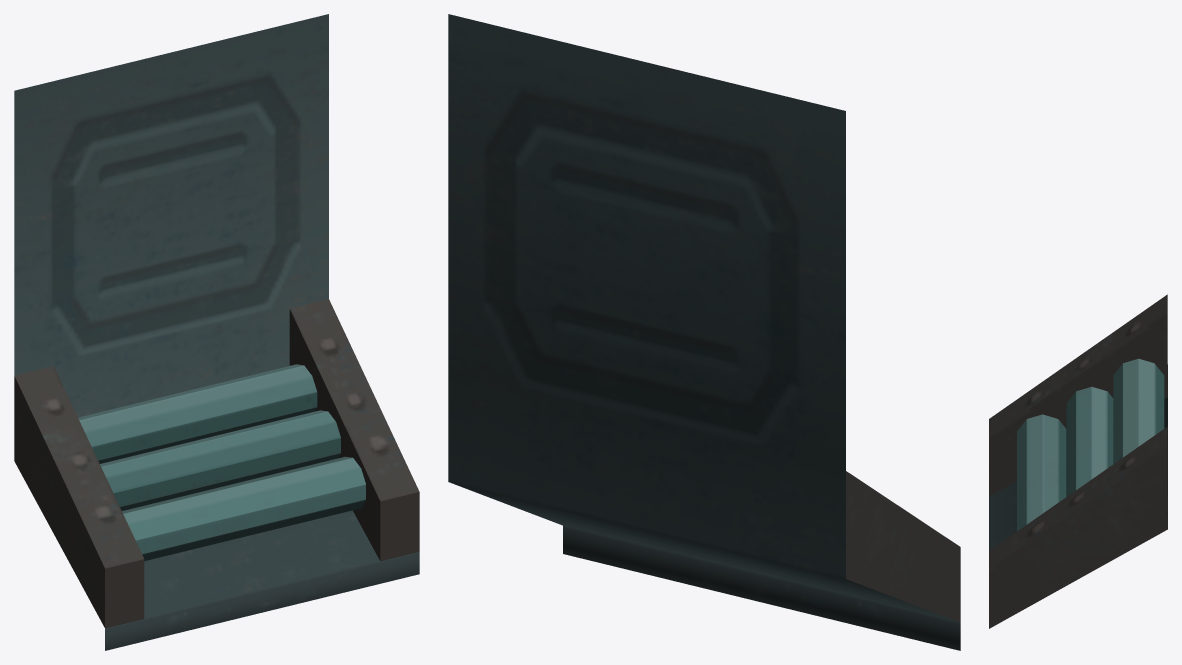
File: MK_Ship_Wall01.fbx
3 views of the same model, side by side, from view 1: azimuth 30°, elevation 25°; view 2: azimuth 150°, elevation 25°; view 3: azimuth 270°, elevation 25° (orthographic). The views are drawn at different scales.
Parts seen in each view (by area): view 1: MK_Ship_Wall01; view 2: MK_Ship_Wall01; view 3: MK_Ship_Wall01.
Part boxes in pixels (x1=…): MK_Ship_Wall01: x1=14, y1=14, x2=419, y2=650; MK_Ship_Wall01: x1=448, y1=14, x2=960, y2=650; MK_Ship_Wall01: x1=989, y1=294, x2=1167, y2=628.
Bounding box in the file's own units: 0.5001 × 0.75 × 0.25.
1 material, 1 textured.
